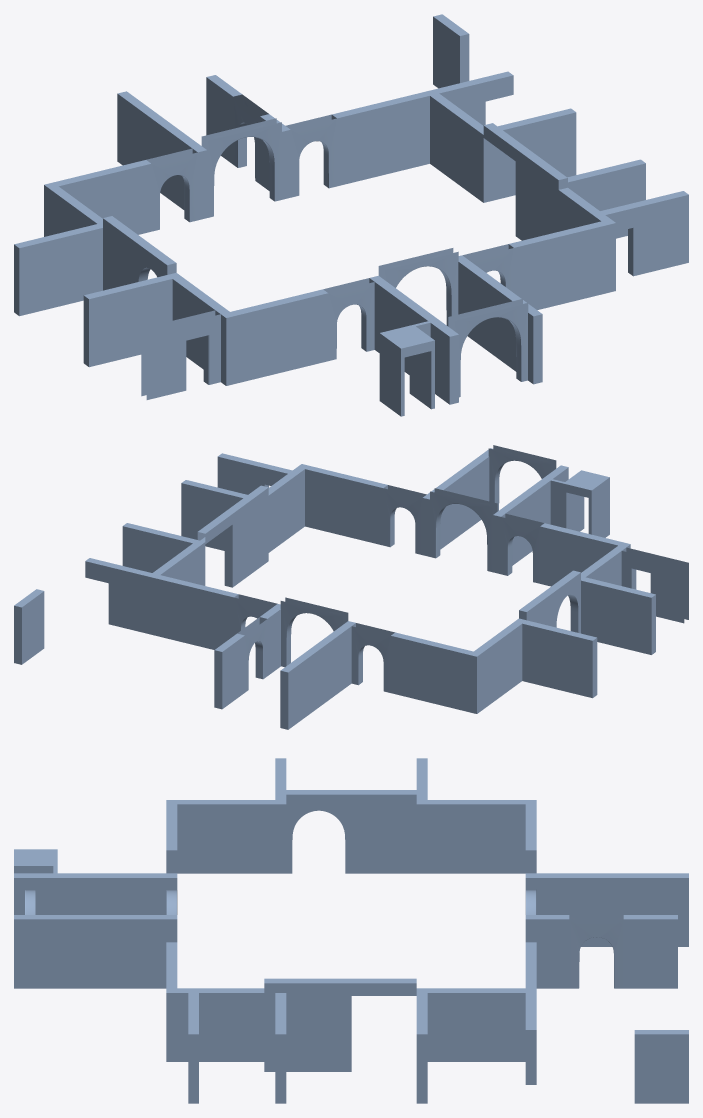
The model's file is SM_Floor2_Inner_walls.fbx.
3 renders of one model, top to bottom at view 1: azimuth 30°, elevation 25°; view 2: azimuth 150°, elevation 25°; view 3: azimuth 270°, elevation 25°, orthographic. The views are drawn at different scales.
Parts seen in each view (by area): view 1: walls15, walls22, walls18, wall_llong15, wall_llong5, wall_llong8, Fireplace:Fireplace:Fireplace:Fireplace:Window8, wall_llong19, walls24, walls16, walls23, walls32 (+22 smaller); view 2: walls18, walls32, walls22, wall_llong15, walls24, wall_llong5, walls35, pCube77, Closet, Fireplace:Fireplace:Fireplace:Fireplace:Window8, walls16, walls15 (+22 smaller); view 3: walls16, walls35, walls12, walls23, walls17, walls24, pCube77, walls13, walls76, walls89, walls70, entryHall16 (+15 smaller).
Part boxes in pixels (bbox=[...]): walls15: bbox=[230, 289, 328, 383]; walls22: bbox=[331, 92, 429, 186]; walls18: bbox=[508, 221, 606, 309]; wall_llong15: bbox=[14, 224, 102, 316]; wall_llong5: bbox=[83, 273, 181, 367]; wall_llong8: bbox=[478, 108, 576, 202]; Fireplace:Fireplace:Fireplace:Fireplace:Window8: bbox=[141, 310, 220, 399]; wall_llong19: bbox=[600, 191, 688, 276]; walls24: bbox=[117, 91, 206, 220]; walls16: bbox=[458, 255, 542, 384]; walls23: bbox=[425, 89, 492, 201]; walls32: bbox=[53, 160, 151, 234]; walls18: bbox=[305, 466, 387, 545]; walls32: bbox=[390, 632, 473, 711]; walls22: bbox=[155, 575, 238, 649]; wall_llong15: bbox=[517, 618, 597, 698]; walls24: bbox=[280, 621, 355, 729]; wall_llong5: bbox=[581, 577, 655, 654]; walls35: bbox=[469, 618, 526, 713]; pCube77: bbox=[224, 485, 268, 587]; Closet: bbox=[543, 470, 609, 537]; Fireplace:Fireplace:Fireplace:Fireplace:Window8: bbox=[621, 547, 688, 623]; walls16: bbox=[422, 448, 492, 556]; walls15: bbox=[540, 523, 622, 586]; walls16: bbox=[14, 915, 177, 988]; walls35: bbox=[416, 800, 536, 873]; walls12: bbox=[166, 800, 286, 873]; walls23: bbox=[417, 988, 536, 1061]; walls17: bbox=[166, 988, 275, 1061]; walls24: bbox=[525, 873, 688, 946]; pCube77: bbox=[264, 978, 351, 1071]; walls13: bbox=[14, 873, 177, 914]; walls76: bbox=[351, 790, 416, 873]; walls89: bbox=[623, 915, 677, 988]; walls70: bbox=[634, 1030, 688, 1103]; entryHall16: bbox=[286, 790, 351, 873].
Bounding box in the file's own units: 3000 × 450 × 3100.
